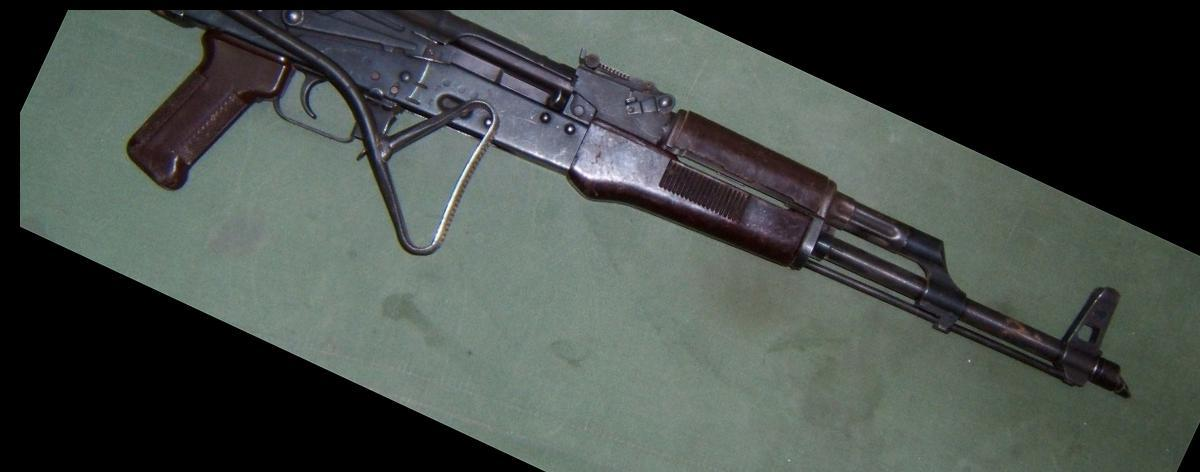larga: (126, 11, 1135, 401)
